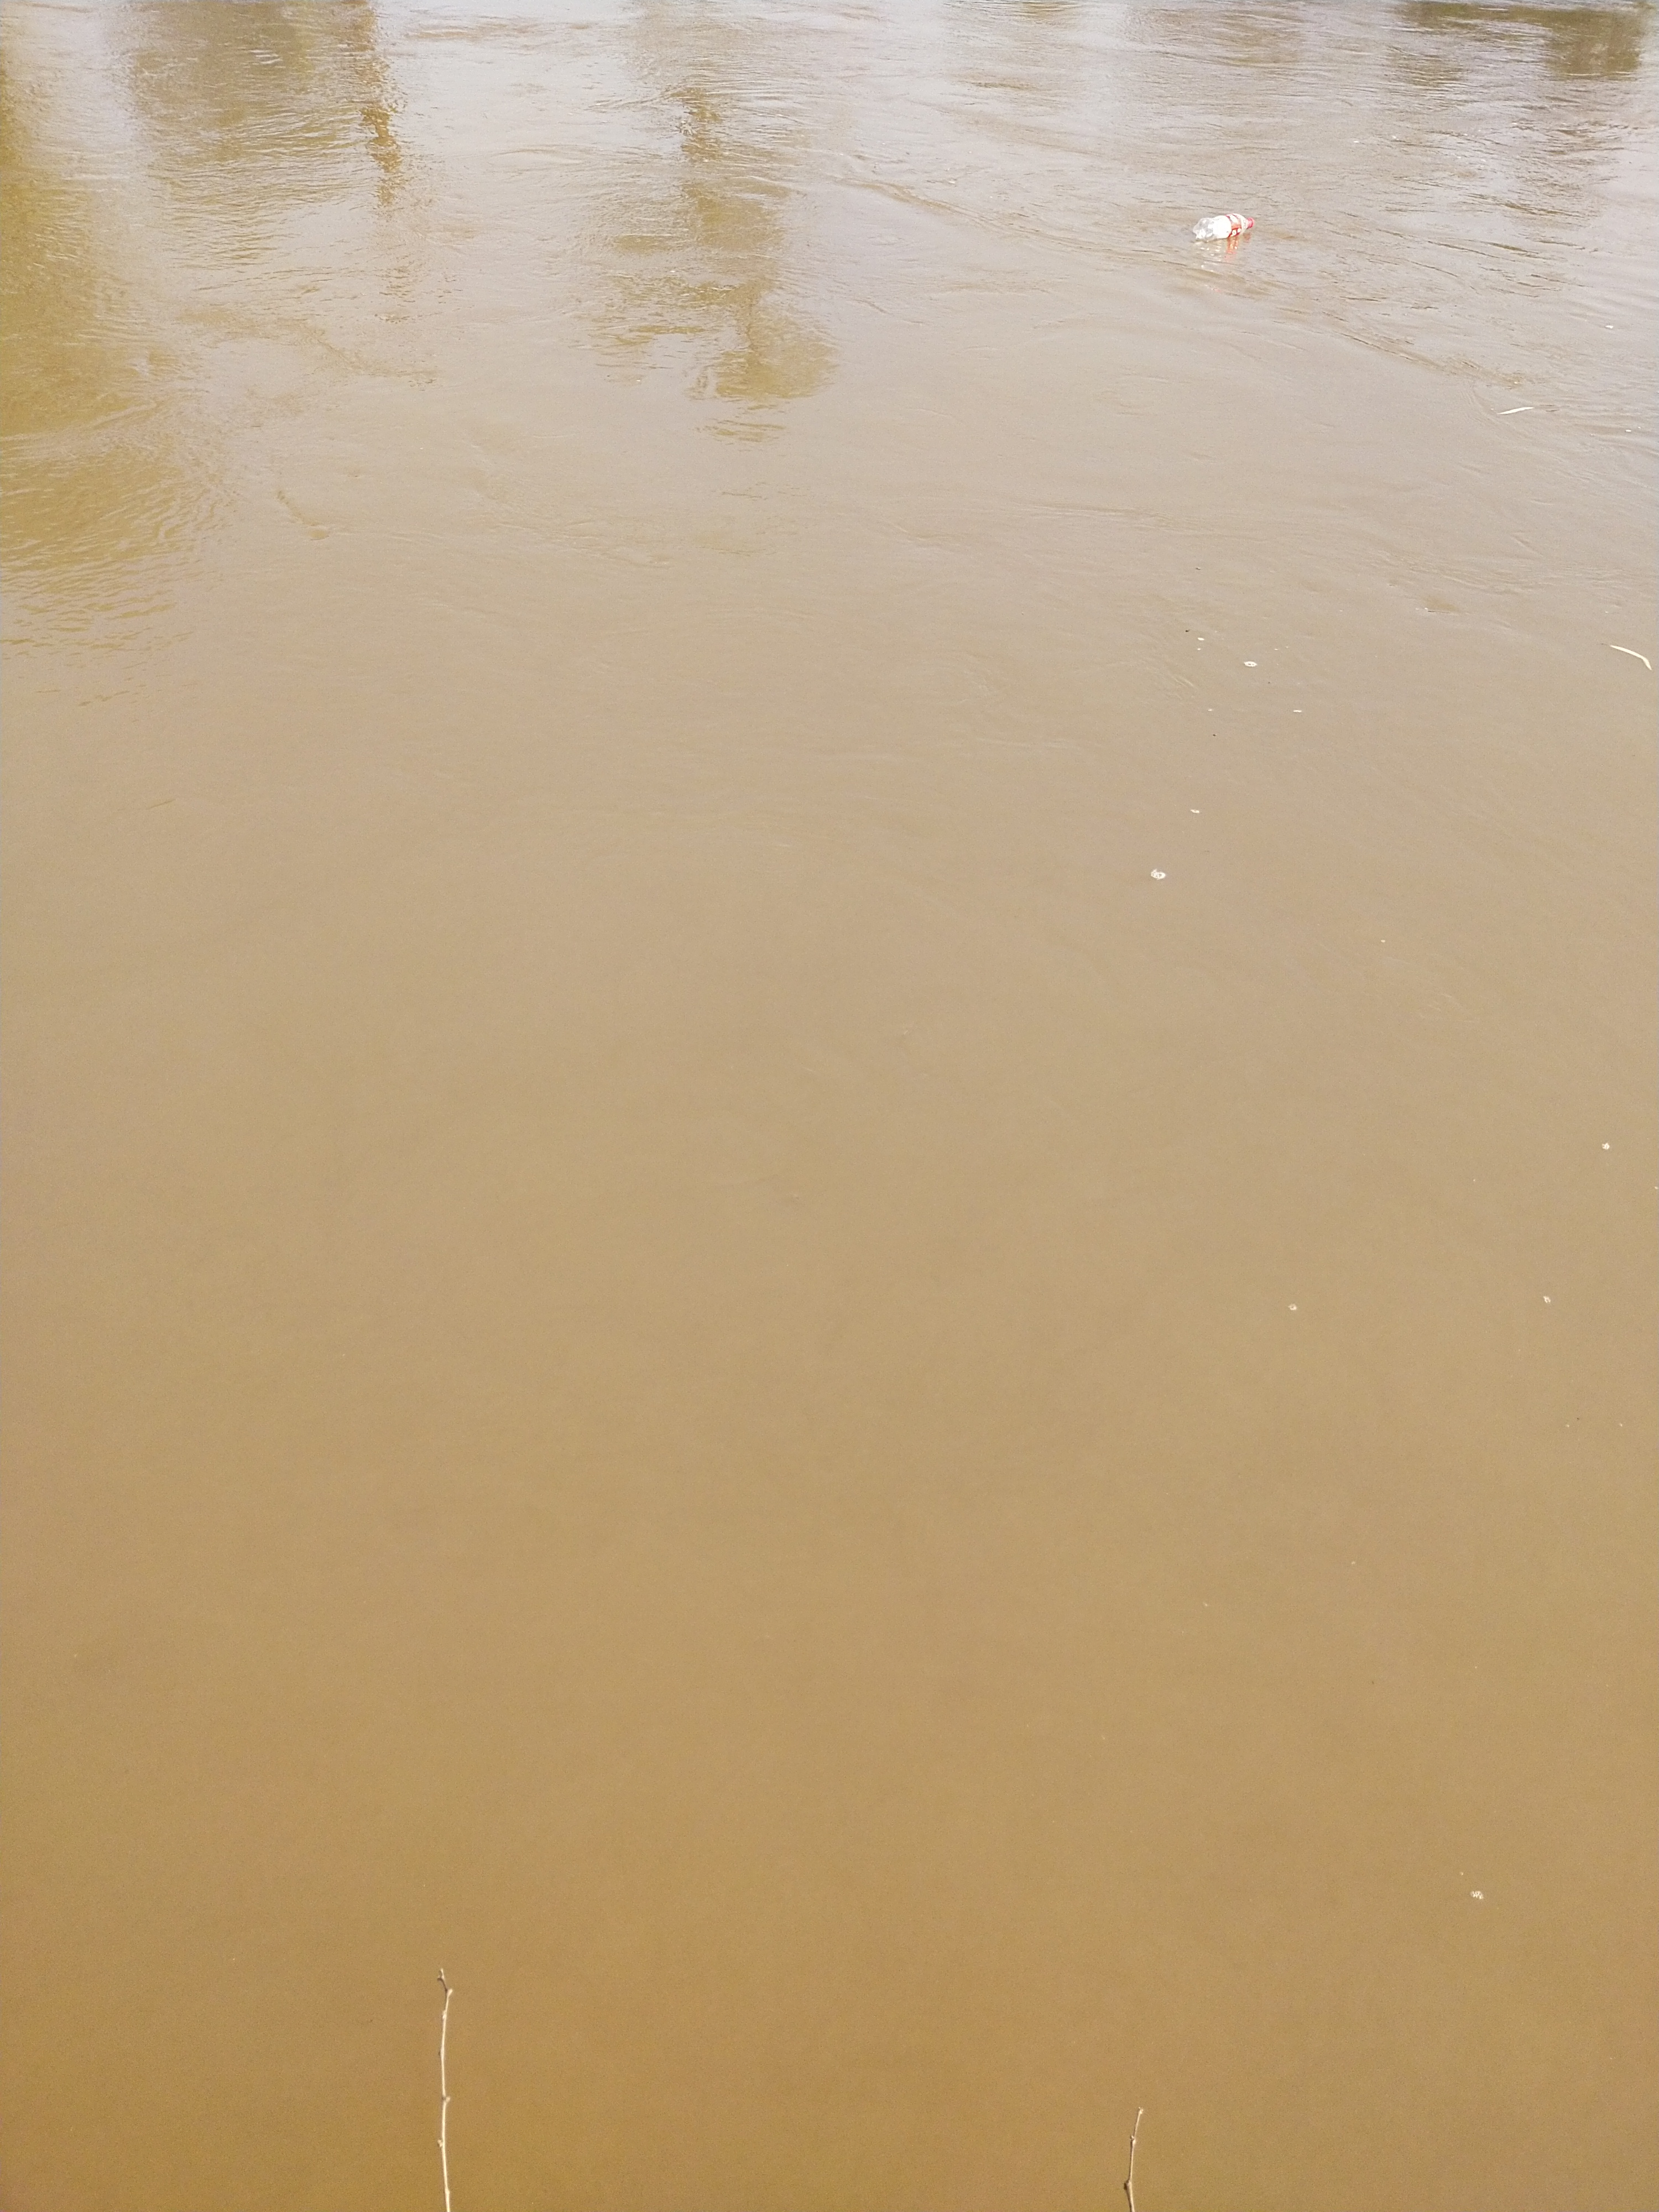Plastic Bottle: (1192, 212, 1255, 242)
